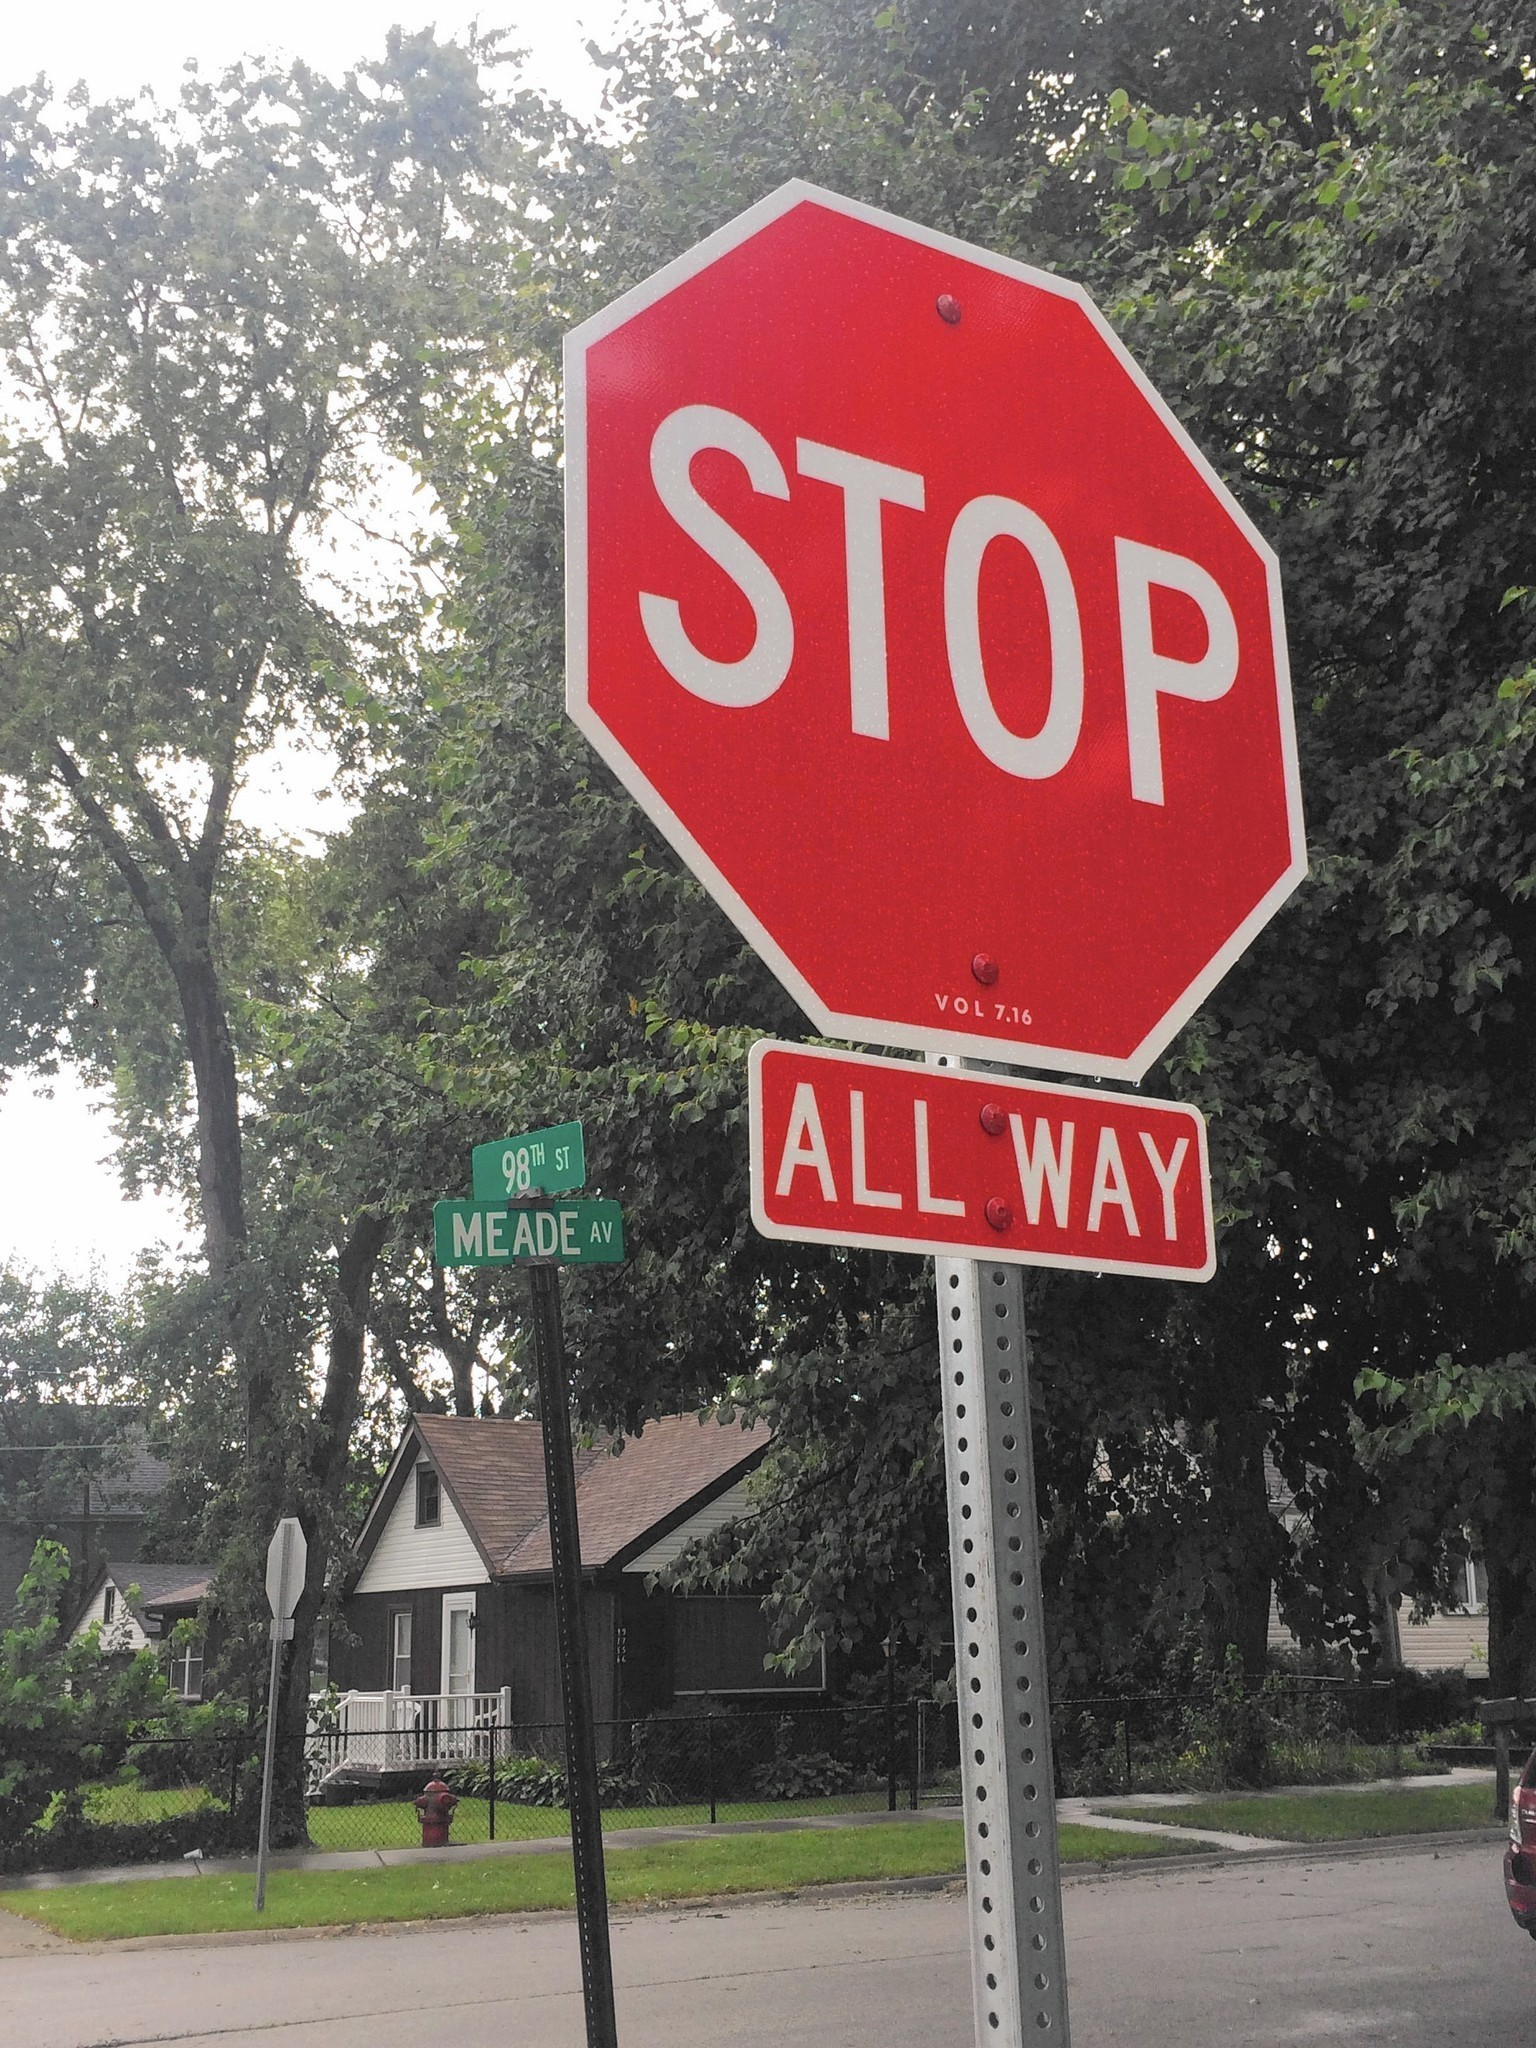stopsign: (573, 190, 1305, 1079)
